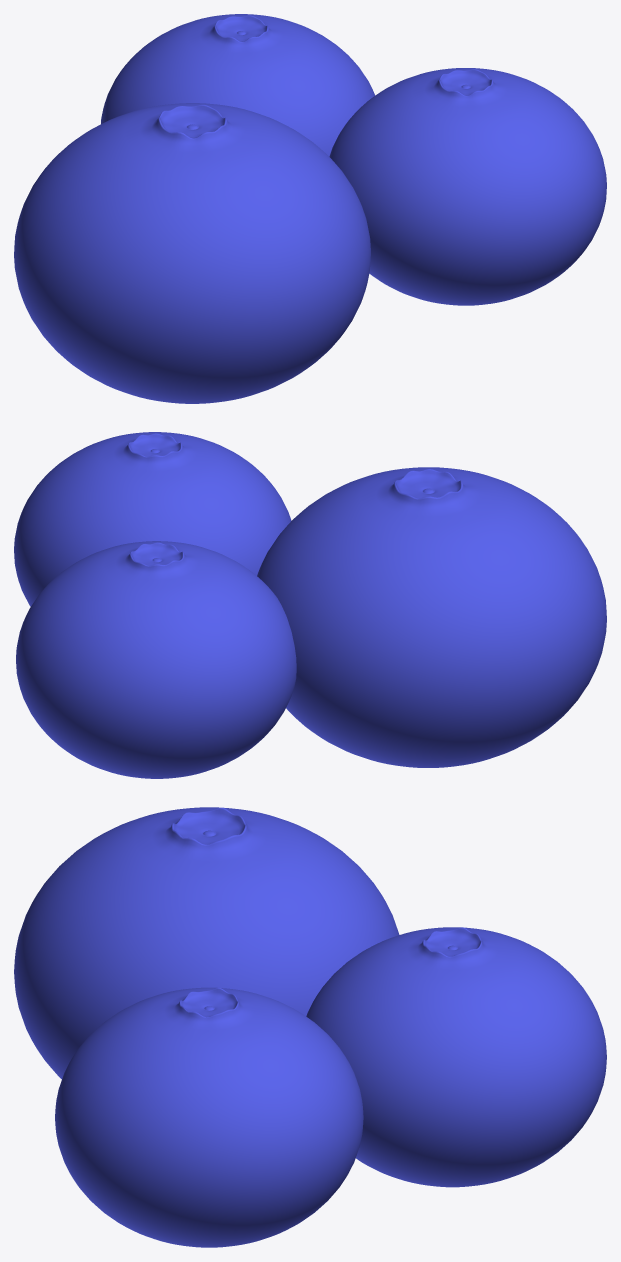
The model's file is yaban_mersini.fbx.
The picture shows the model from 3 angles, top to bottom: view 1: azimuth 30°, elevation 25°; view 2: azimuth 150°, elevation 25°; view 3: azimuth 270°, elevation 25°; orthographic projection. The views are drawn at different scales.
Parts seen in each view (by area): view 1: yaban_mersini.001, yaban_mersini, yaban_mersini.002; view 2: yaban_mersini.001, yaban_mersini.002, yaban_mersini; view 3: yaban_mersini, yaban_mersini.001, yaban_mersini.002.
Part boxes in pixels (<box>): yaban_mersini.001: <box>14,103,370,403</box>; yaban_mersini: <box>329,68,606,305</box>; yaban_mersini.002: <box>101,14,374,156</box>; yaban_mersini.001: <box>257,467,606,767</box>; yaban_mersini.002: <box>16,541,296,778</box>; yaban_mersini: <box>14,432,291,606</box>; yaban_mersini: <box>55,987,363,1247</box>; yaban_mersini.001: <box>14,807,399,1079</box>; yaban_mersini.002: <box>306,927,606,1187</box>.
Bounding box in the file's own units: 27.71 × 12.76 × 23.65.
